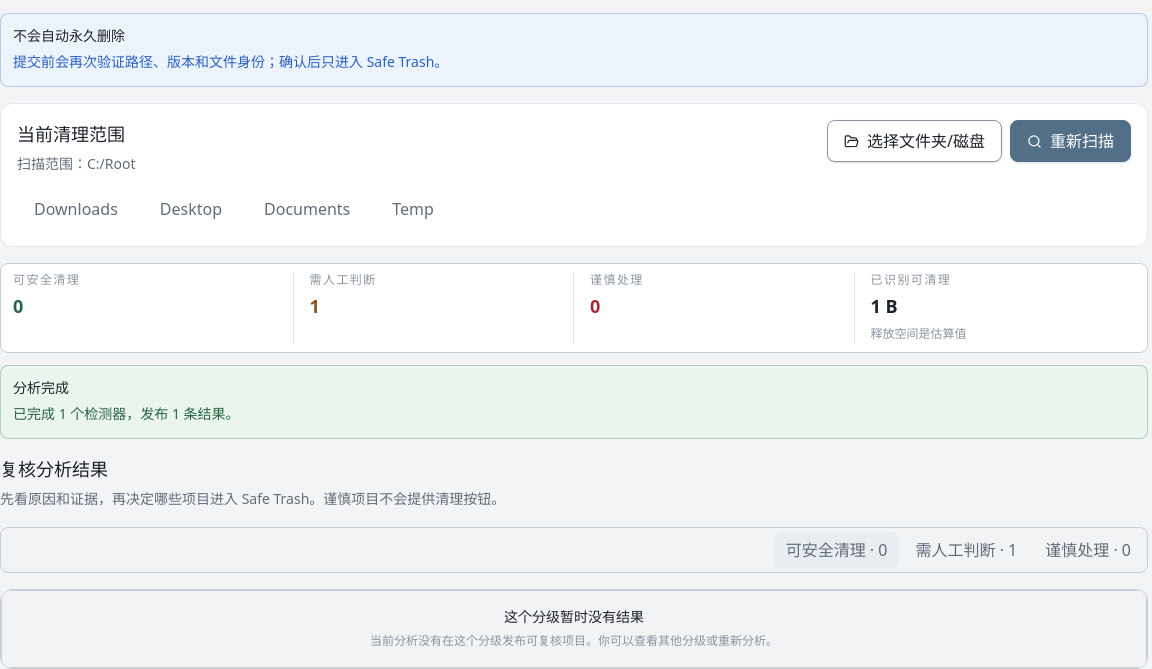
Test: Cleanup independent review behavior › keeps blocked cleanup previews out of confirmation and Safe Trash mutation
(page scrolled)
Click the button "需人工判断 · 1".
click(966, 550)  # box [904,532,1029,568]
(page scrolled)
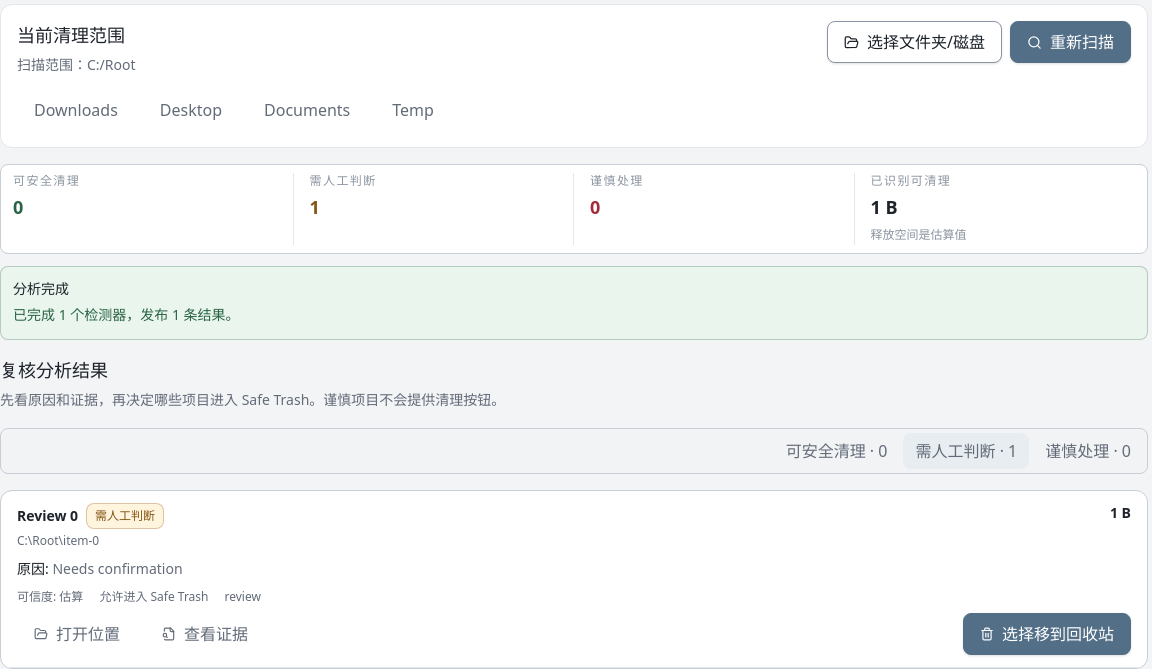
Click the button "选择移到回收站".
click(1047, 634)  # box [963,613,1131,655]
(page scrolled)
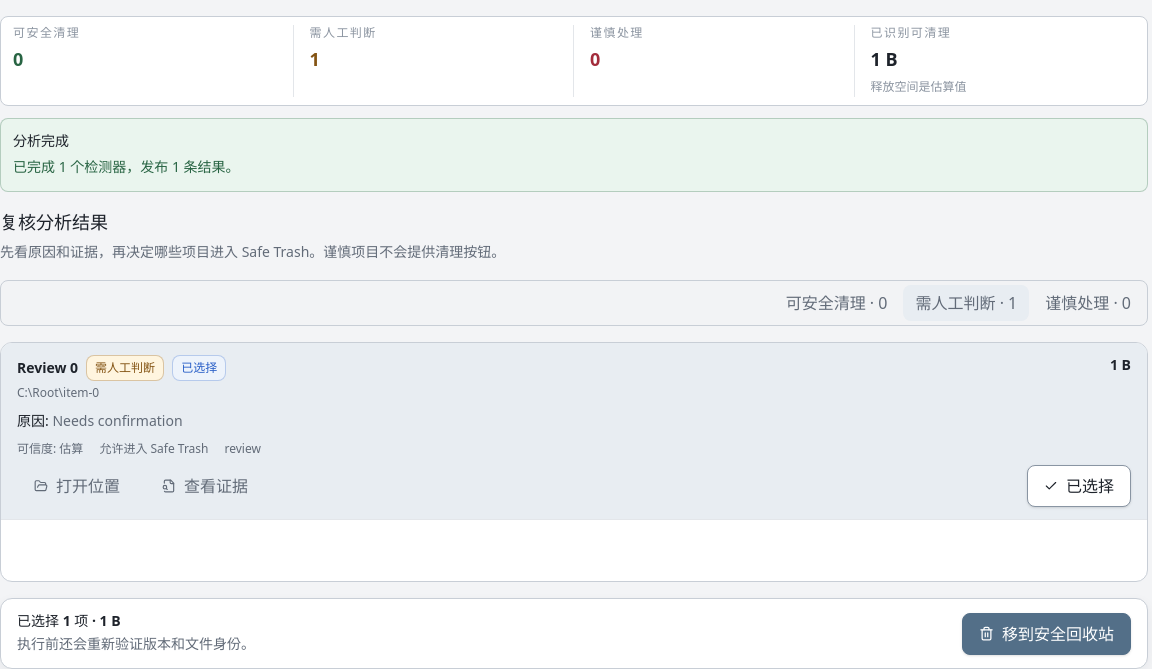
Click the button "移到安全回收站".
click(1046, 634)  # box [962,612,1131,654]
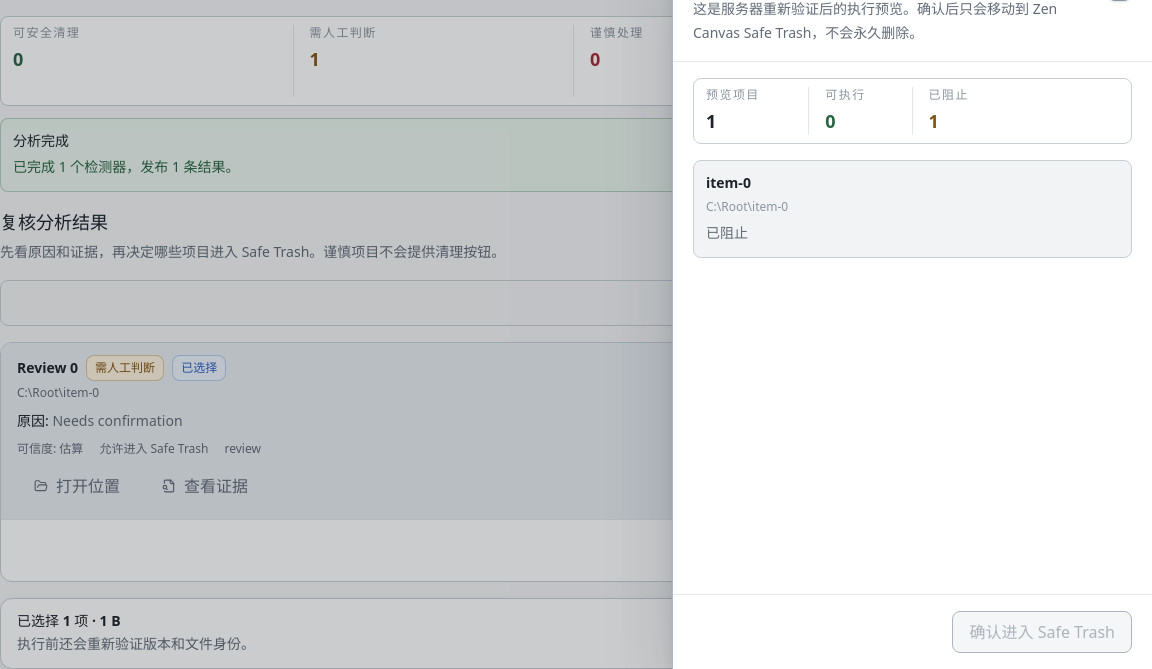
Now the button "确认进入 Safe Trash" is disabled, box [952,611,1132,653]
